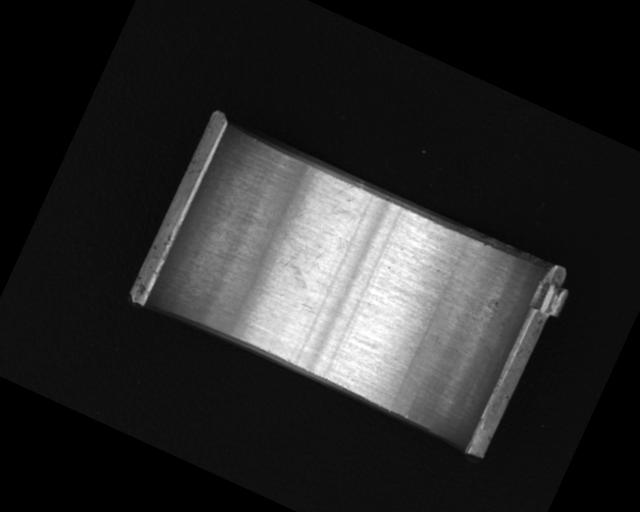blot: (268, 230, 328, 294)
